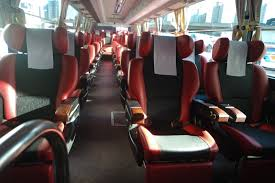seat: (125, 29, 224, 173)
